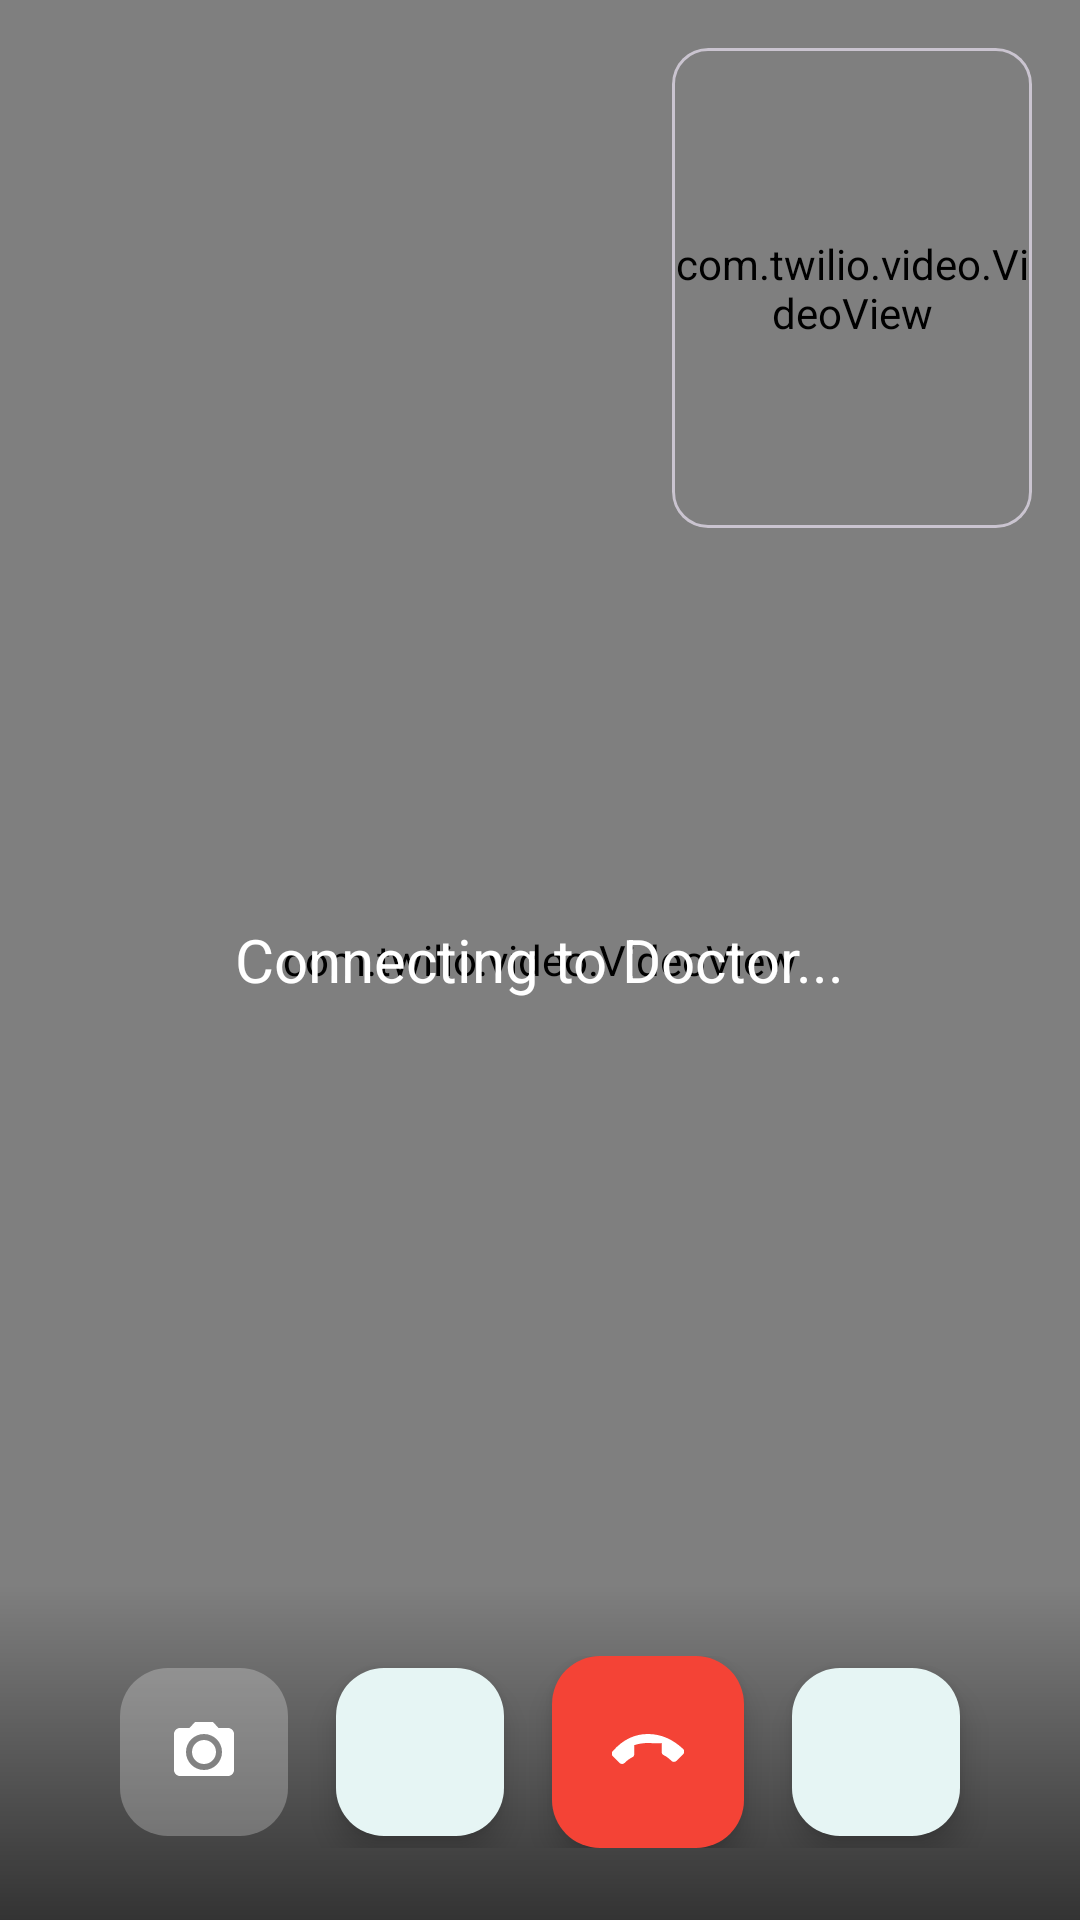

Icon click points for this 1080px x 1920px phone screenshot, format point (x, y):
call end: point (648, 1752)
switch camera: point (204, 1752)
